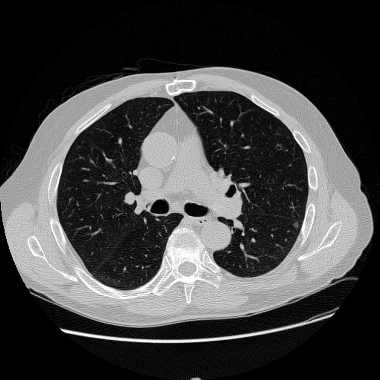nodule: (292, 221, 300, 229)
